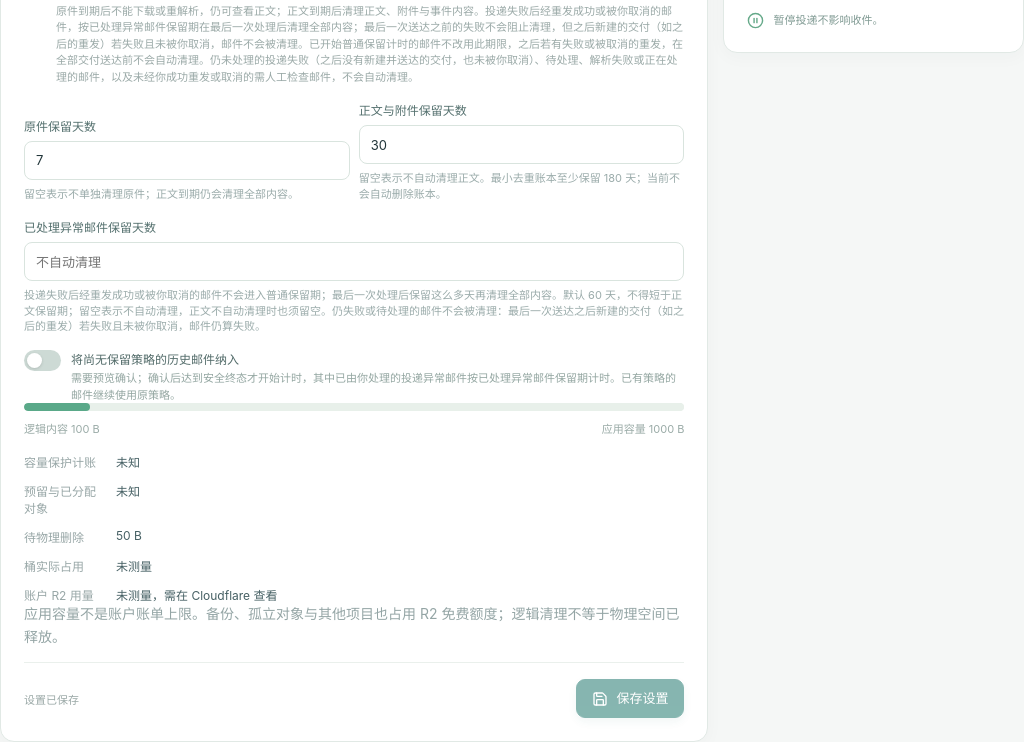
Test case: historical enrollment with the resolved period disabled does not promise resolved cleanup
The image size is (1024, 742).
(page scrolled)
Click the checkbox labelled "将尚无保留策略的历史邮件纳入" at [354, 377], box [24,350,684,403]
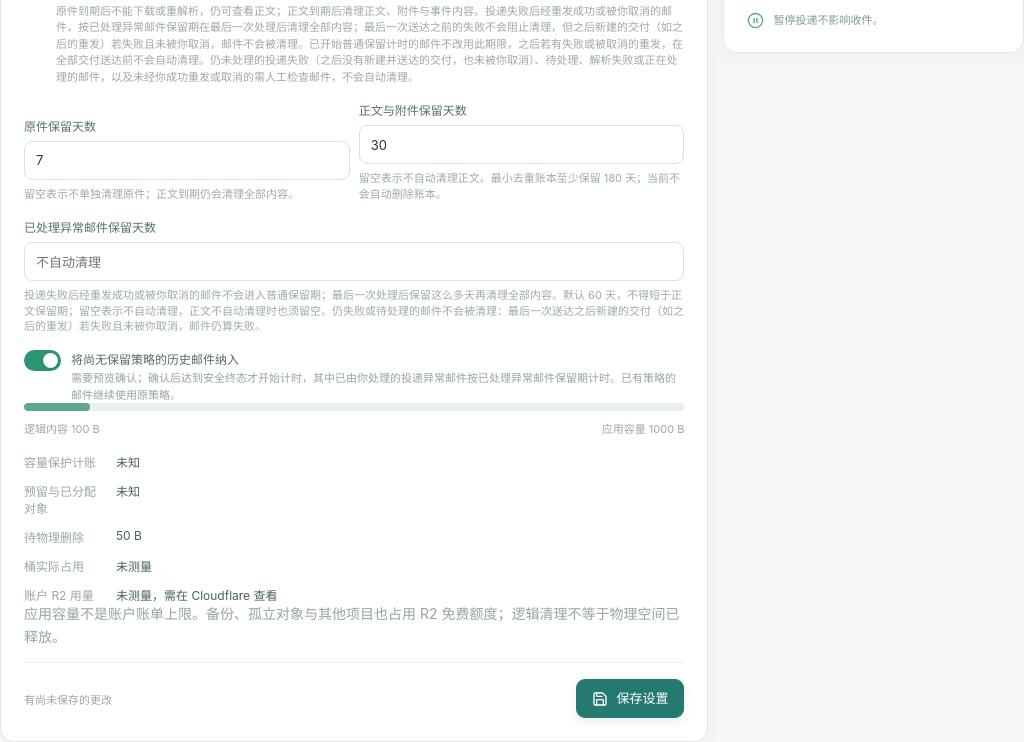
Click the button "保存设置" at [630, 699], box [576,679,684,718]
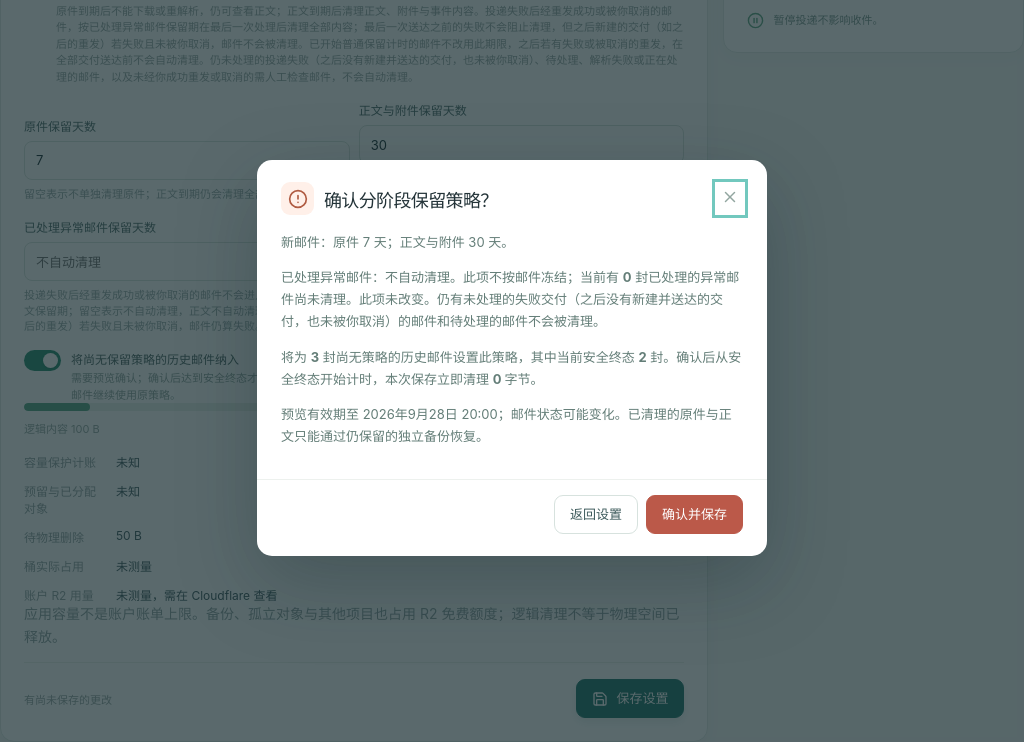
Expected: the heading "确认分阶段保留策略？" is shown, [324,190,498,211]
Expected: the text "0 字节" shows "将为 3 封尚无策略的历史邮件设置此策略", [281,346,743,390]
Expected: the text "已处理异常邮件：不自动清理" shows "此项未改变", [359,291,437,307]
